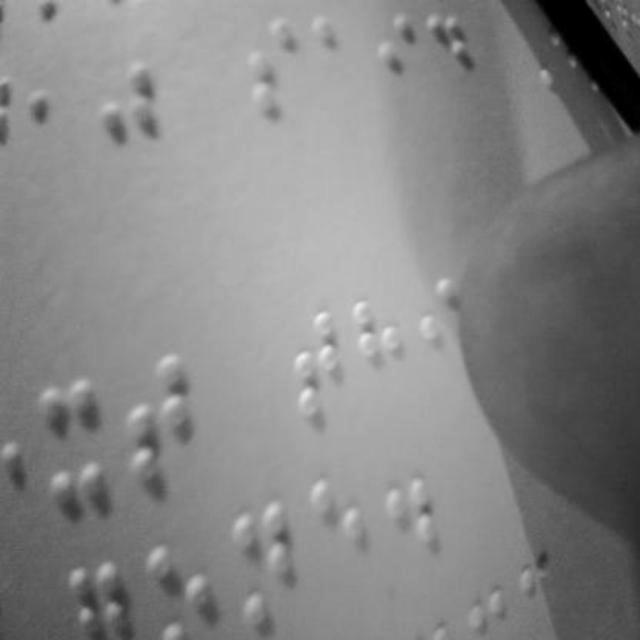braiile: (34, 368, 108, 514), (125, 348, 198, 488), (230, 492, 298, 640), (305, 470, 371, 594), (26, 46, 90, 164), (284, 302, 344, 420), (243, 15, 304, 130), (349, 294, 407, 410), (424, 6, 476, 110), (309, 9, 361, 107), (374, 12, 422, 112)
